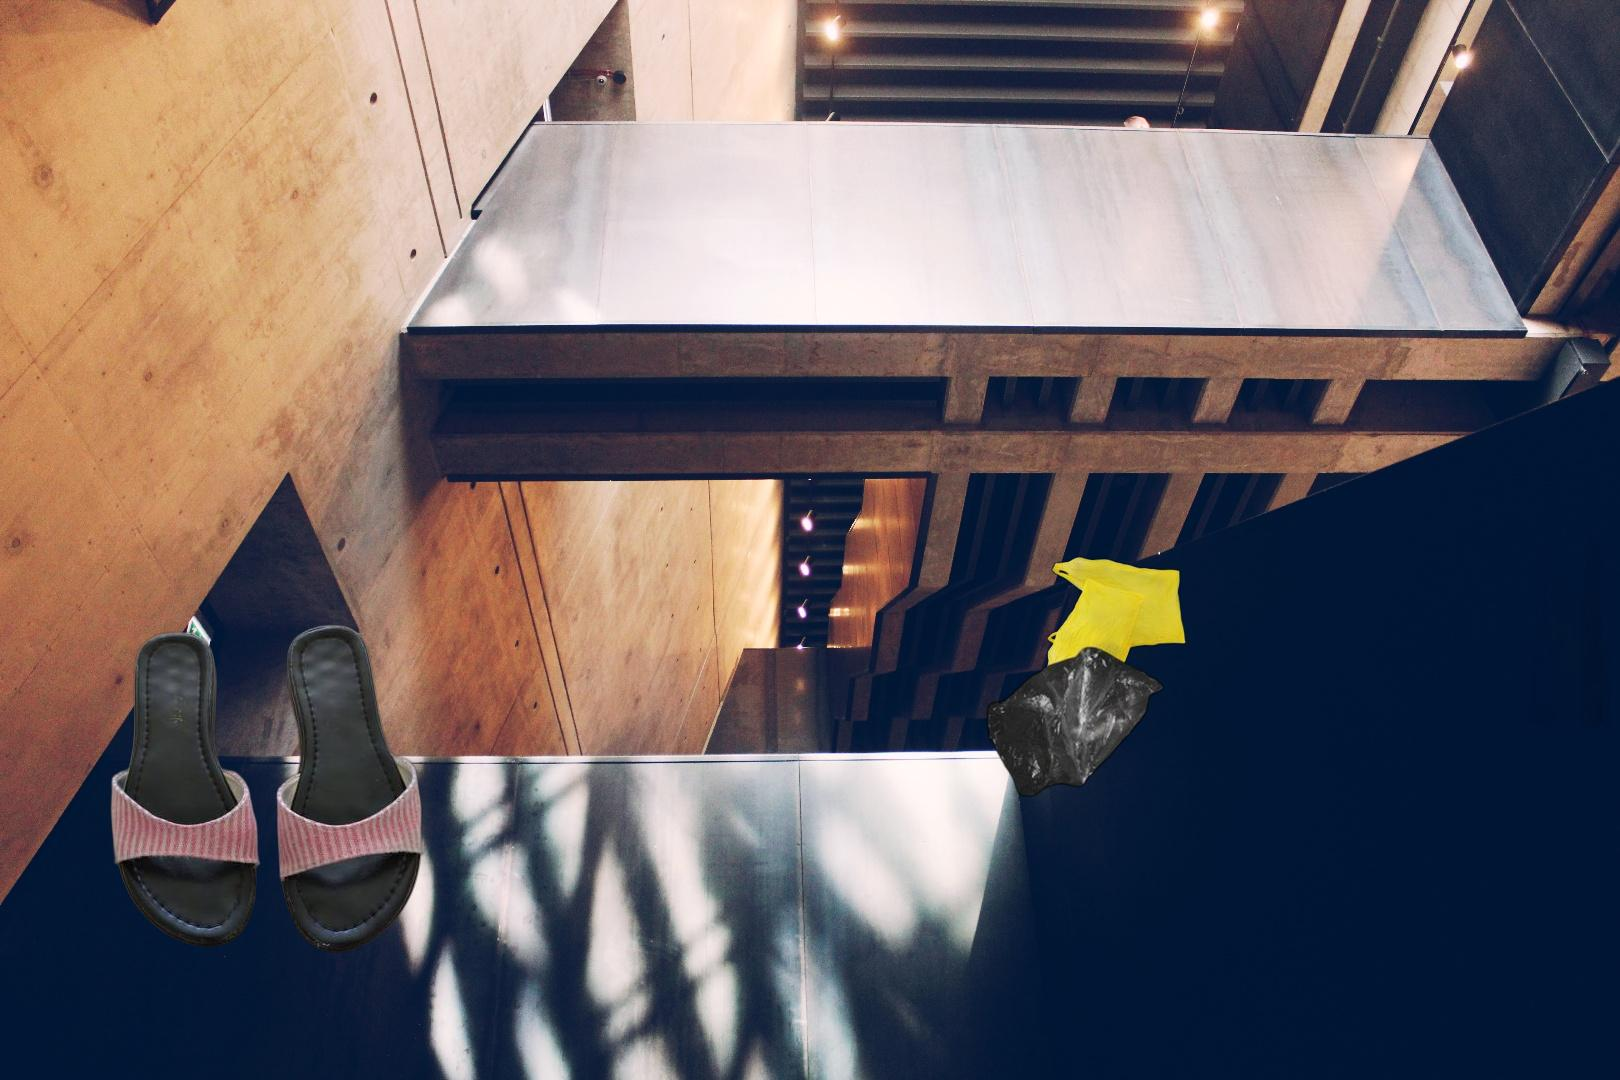penholder: (1493, 460, 1620, 728)
plastic-bag: (984, 548, 1190, 799)
shoes: (108, 620, 427, 956)
